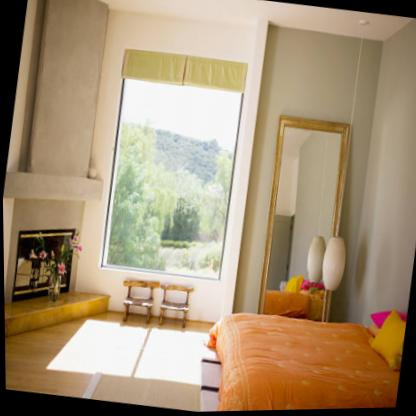Window: (92, 46, 247, 284)
